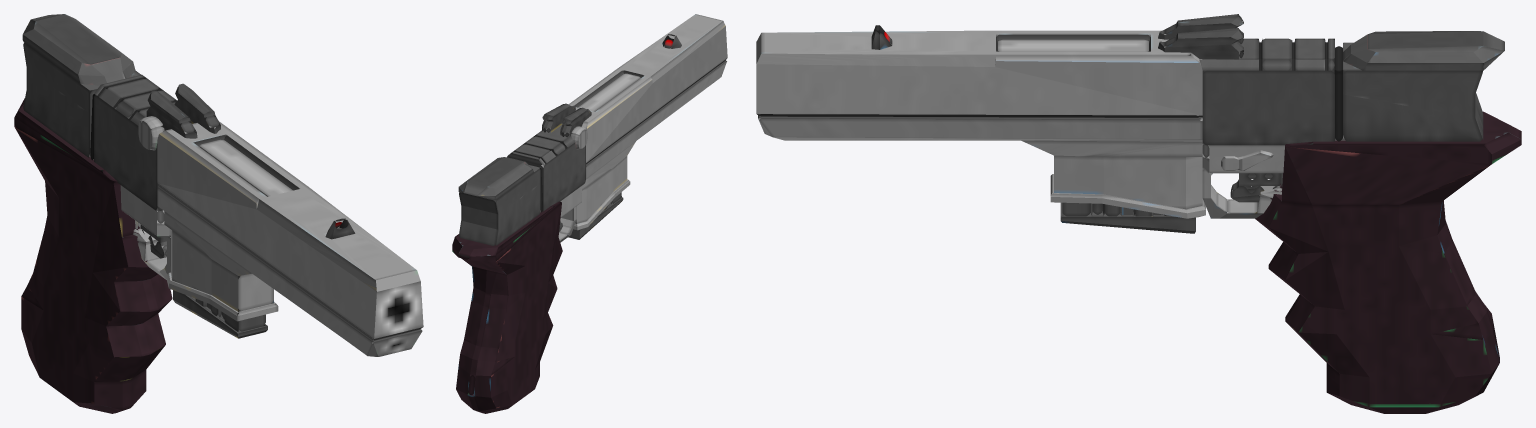
The model's file is Handgun.obj.
The picture shows the model from 3 angles, left to right: view 1: azimuth 30°, elevation 25°; view 2: azimuth 150°, elevation 25°; view 3: azimuth 270°, elevation 25°; orthographic projection. The views are drawn at different scales.
Parts seen in each view (by area): view 1: mesh, mesh_selection, Magazine; view 2: mesh, mesh_selection, Magazine; view 3: mesh, mesh_selection, Magazine.
Boxes of the visible parts, x1,y1,x2,y2 form: mesh: (14, 14, 422, 413); mesh_selection: (140, 121, 423, 338); Magazine: (173, 275, 267, 338); mesh: (452, 58, 726, 413); mesh_selection: (559, 14, 727, 231); Magazine: (568, 166, 623, 239); mesh: (757, 14, 1521, 413); mesh_selection: (756, 25, 1280, 202); Magazine: (1060, 202, 1195, 233).
Bounding box in the file's own units: 0.3 × 1.59 × 2.89.
Materials: 1 (1 with a texture image).
